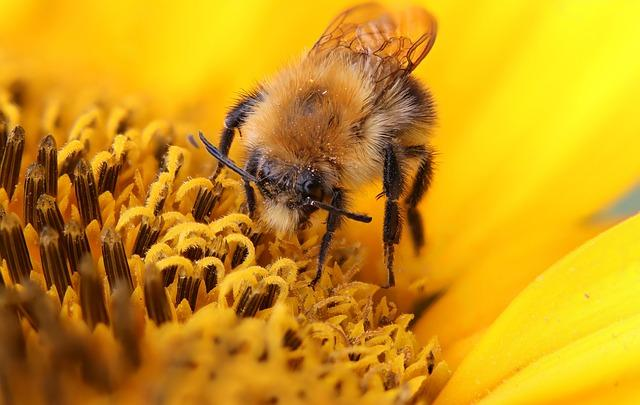Non_Gorille: (2, 0, 640, 405)
